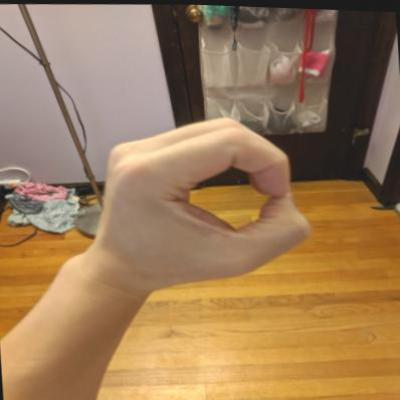hand: (80, 105, 318, 296)
